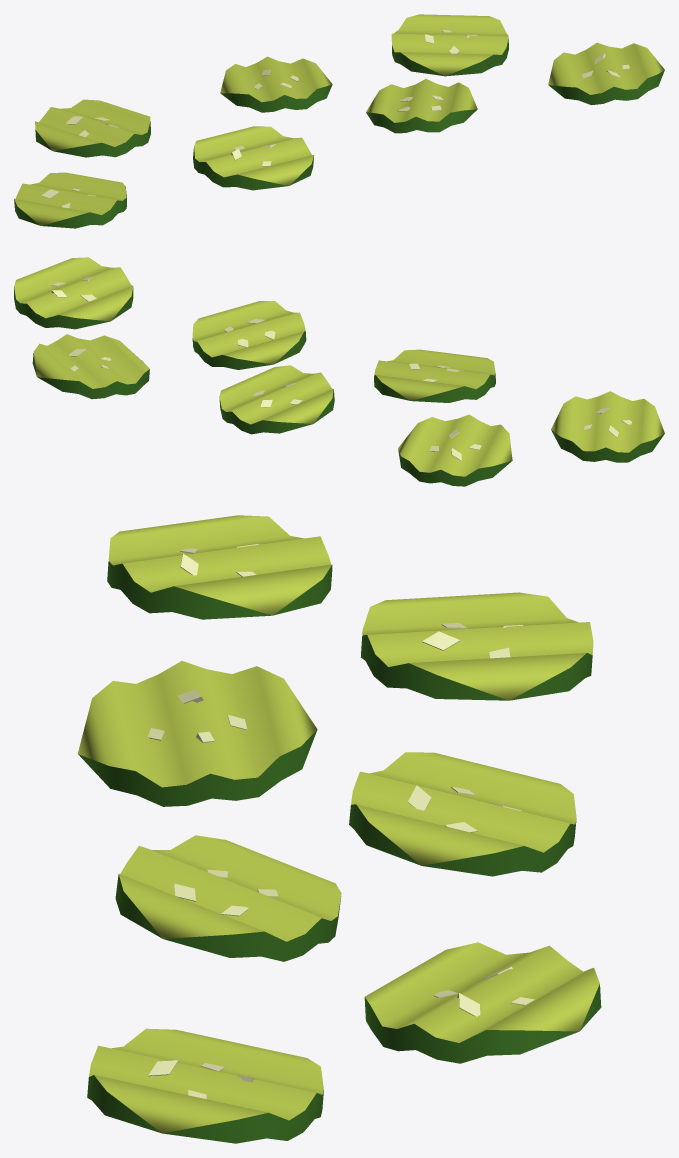
File: Food_Pickles.fbx
3 views of the same model, one above another, from view 1: azimuth 30°, elevation 25°; view 2: azimuth 150°, elevation 25°; view 3: azimuth 270°, elevation 25° (orthographic). The views are drawn at different scales.
Visible parts, largest first — view 1: Flesh, Skin, Seeds; view 2: Flesh, Skin, Seeds; view 3: Flesh, Skin, Seeds.
Part boxes in pixels (box(x1,y1,x2,y2)): Flesh: box(14, 14, 664, 225); Skin: box(14, 38, 664, 228); Seeds: box(41, 30, 629, 208); Flesh: box(14, 257, 664, 476); Skin: box(14, 287, 664, 486); Seeds: box(51, 277, 631, 460); Flesh: box(78, 515, 599, 1133); Skin: box(78, 561, 601, 1143); Seeds: box(148, 544, 534, 1099).
Size of the model in its own units: 204 by 10.13 by 73.29.
